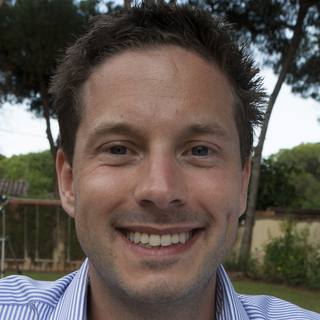eye: (169, 132, 231, 169), (86, 132, 149, 165)
